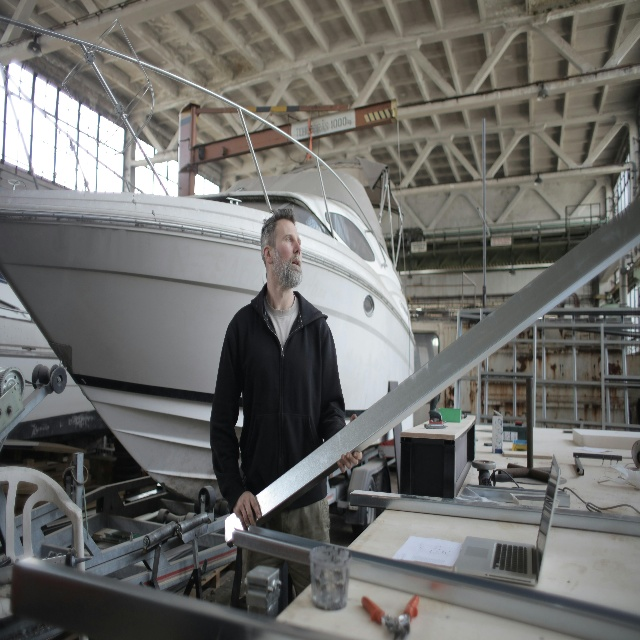Sin_guantes: (337, 413, 362, 474), (233, 492, 261, 532)
